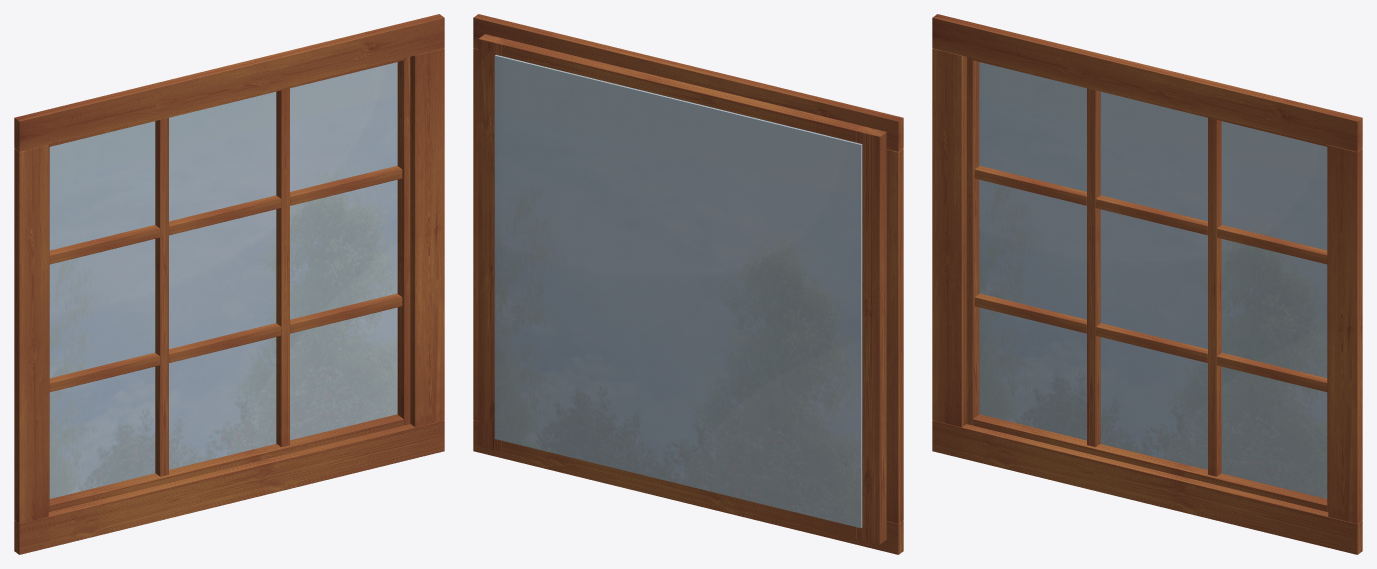
3 renders of one model, left to right at view 1: azimuth 30°, elevation 25°; view 2: azimuth 150°, elevation 25°; view 3: azimuth 330°, elevation 25°, orthographic.
Parts seen in each view (by area): view 1: glass, trim_top, trim_bottom, trim_left, trim_right, window_right, muttin_vertical002, muttin_vertical001, window_bottom, muttin_horizontal005, muttin_horizontal002, muttin_horizontal001 (+5 smaller); view 2: glass, window_left, trim_top, window_right, trim_left, window_top, window_bottom, trim_bottom, trim_right; view 3: glass, trim_top, trim_bottom, trim_right, trim_left, window_left, muttin_vertical002, muttin_vertical001, window_bottom, muttin_horizontal005, muttin_horizontal002, muttin_horizontal003 (+5 smaller).
Boxes of the visible parts, x1,y1,x2,y2 form: glass: (49, 62, 397, 498); trim_top: (14, 14, 444, 151); trim_bottom: (14, 420, 444, 554); trim_left: (14, 145, 48, 523); trim_right: (410, 48, 444, 427); window_right: (397, 57, 410, 425); muttin_vertical002: (276, 88, 289, 447); muttin_vertical001: (155, 118, 168, 476); window_bottom: (49, 414, 403, 511); muttin_horizontal005: (169, 323, 281, 362); muttin_horizontal002: (169, 195, 281, 235); muttin_horizontal001: (290, 166, 402, 205); glass: (494, 55, 862, 528); window_left: (856, 126, 886, 544); trim_top: (473, 14, 903, 151); window_right: (478, 34, 508, 452); trim_left: (886, 148, 903, 523); window_top: (502, 40, 862, 142); window_bottom: (502, 440, 856, 538); trim_bottom: (473, 420, 903, 554); trim_right: (473, 48, 478, 421); glass: (979, 62, 1327, 498); trim_top: (932, 14, 1362, 151); trim_bottom: (932, 420, 1362, 554); trim_right: (1328, 145, 1362, 523); trim_left: (932, 48, 966, 427); window_left: (966, 57, 979, 425); muttin_vertical002: (1208, 118, 1221, 476); muttin_vertical001: (1087, 88, 1100, 447); window_bottom: (973, 414, 1327, 511); muttin_horizontal005: (1095, 323, 1207, 362); muttin_horizontal002: (1095, 195, 1207, 235); muttin_horizontal003: (974, 166, 1086, 205).
Bounding box in the file's own units: 36 × 35.08 × 1.92.
Materials: 7 (7 with a texture image).
